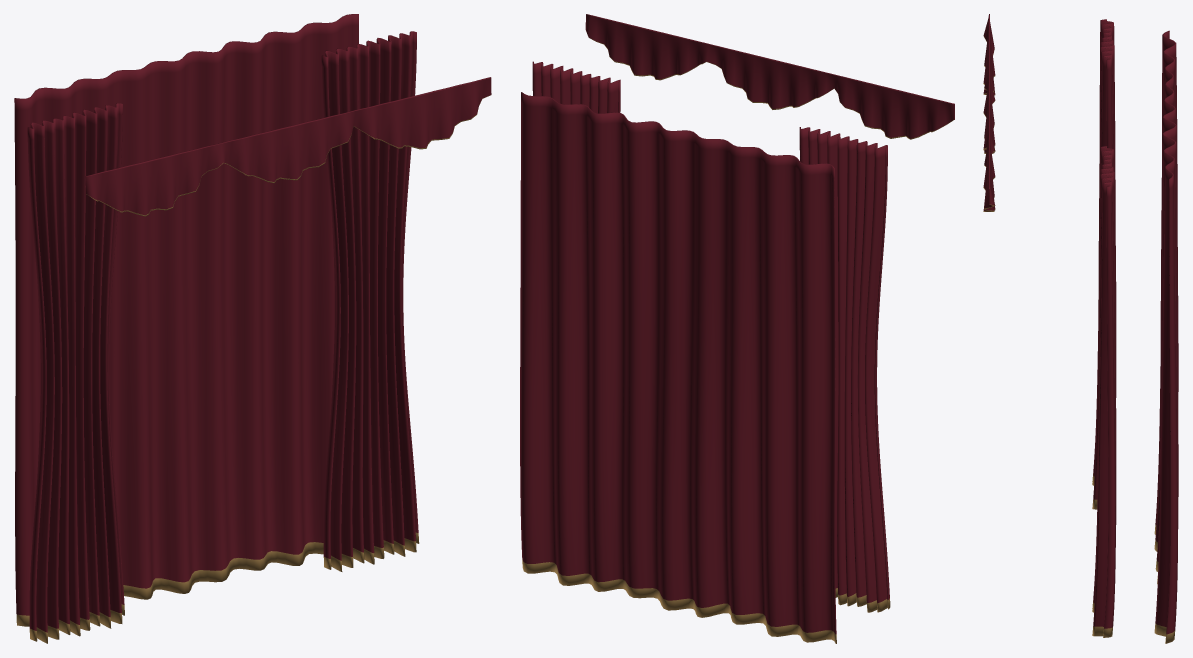
Rendered from drapery.glb.
3 renders of one model, left to right at view 1: azimuth 30°, elevation 25°; view 2: azimuth 150°, elevation 25°; view 3: azimuth 270°, elevation 25°, orthographic. The views are drawn at different scales.
Parts seen in each view (by area): view 1: Throne textile backdrop, Left gathered drape, Right gathered drape, Scalloped canopy valance; view 2: Throne textile backdrop, Left gathered drape, Scalloped canopy valance, Right gathered drape; view 3: Throne textile backdrop, Right gathered drape, Left gathered drape, Scalloped canopy valance.
Boxes of the visible parts, x1,y1,x2,y2 form: Throne textile backdrop: (14,14,358,626); Left gathered drape: (27,103,124,643); Right gathered drape: (321,31,419,571); Scalloped canopy valance: (85,77,491,216); Throne textile backdrop: (520,92,836,643); Left gathered drape: (799,127,890,612); Scalloped canopy valance: (585,14,954,139); Right gathered drape: (532,61,620,113); Throne textile backdrop: (1154,30,1178,643); Right gathered drape: (1092,146,1116,637); Left gathered drape: (1092,19,1116,509); Scalloped canopy valance: (983,14,995,211).
Bounding box in the file's own units: 9.67 × 12.15 × 4.55.
